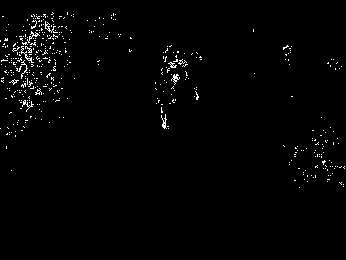person: (151, 69, 177, 129)
